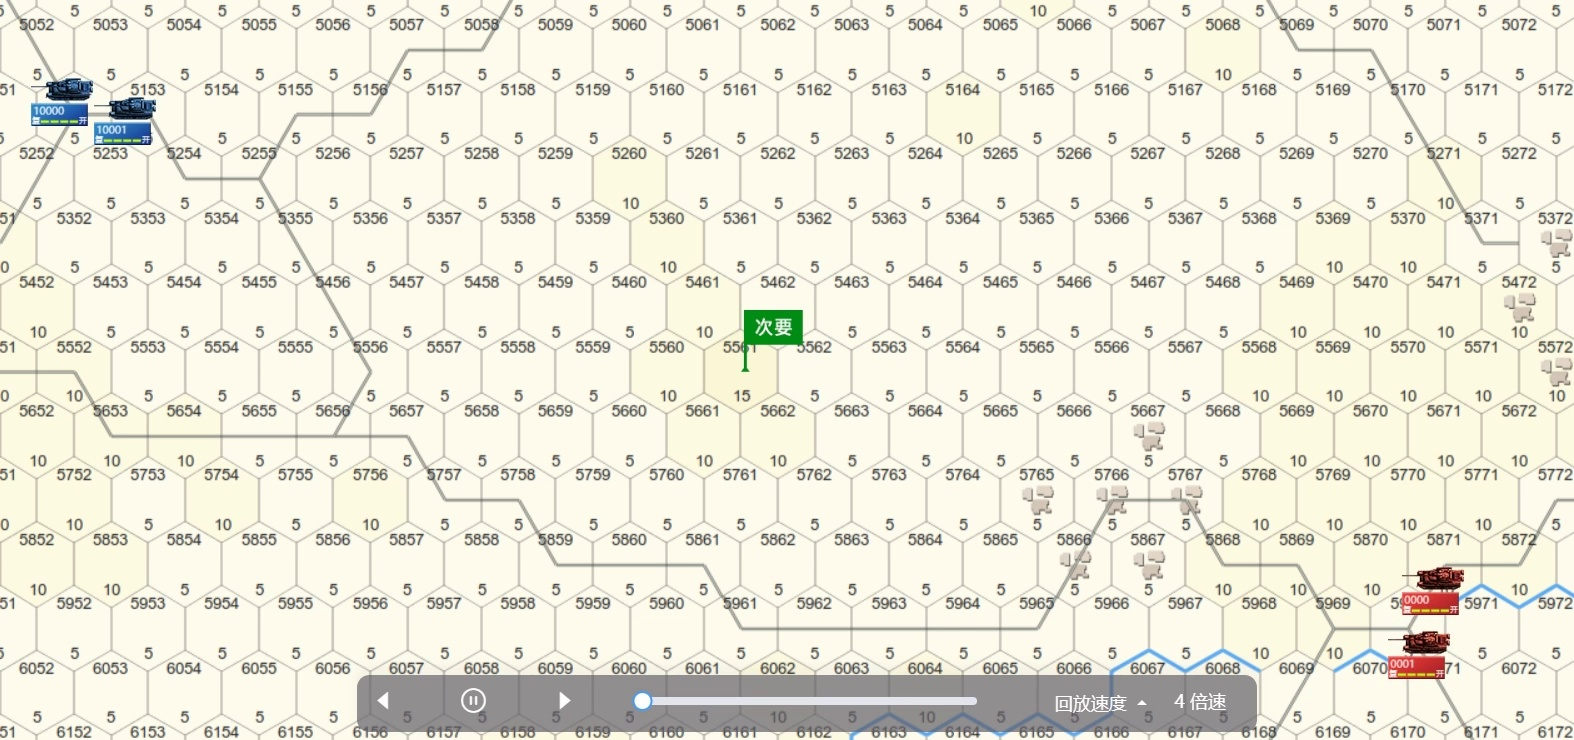blue_tank: (33, 72, 85, 125), (104, 101, 153, 144)
red_tank: (1405, 570, 1469, 614), (1396, 631, 1451, 677)
